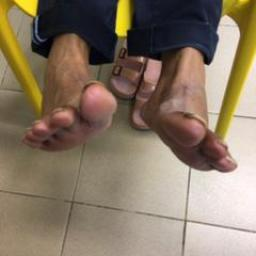Front View -Both Feet-: (12, 26, 242, 184)
